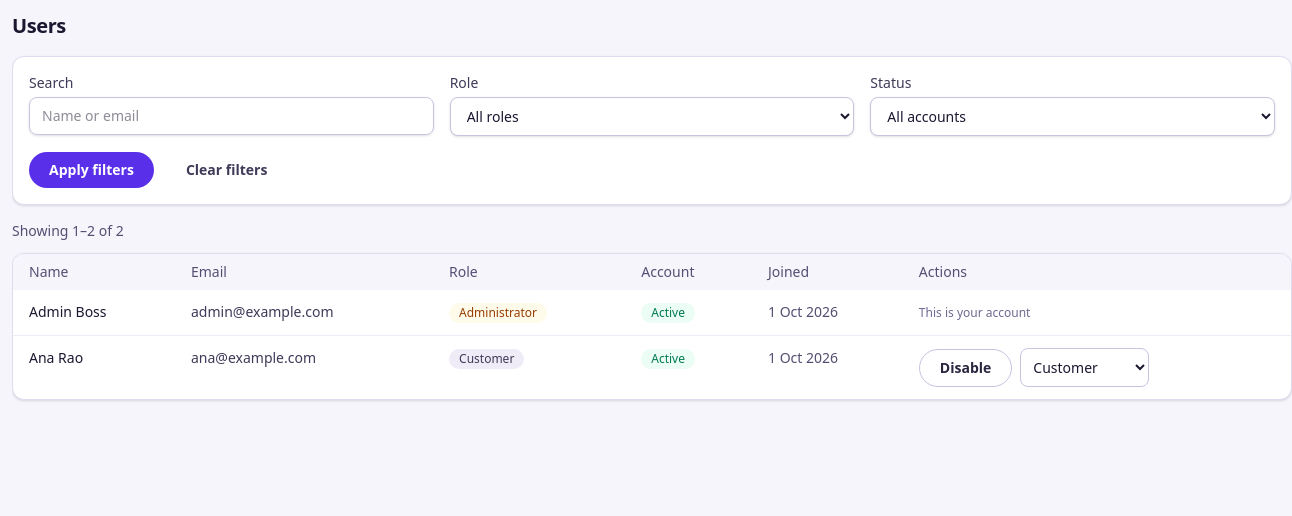
AdminUsersPage › disables an account only after a second, explicit confirmation, then reloads the list
The width and height of the screenshot is (1292, 516).
Click the button with aria-label "Disable Ana Rao". click: (966,368)
box: [919, 348, 1012, 386]
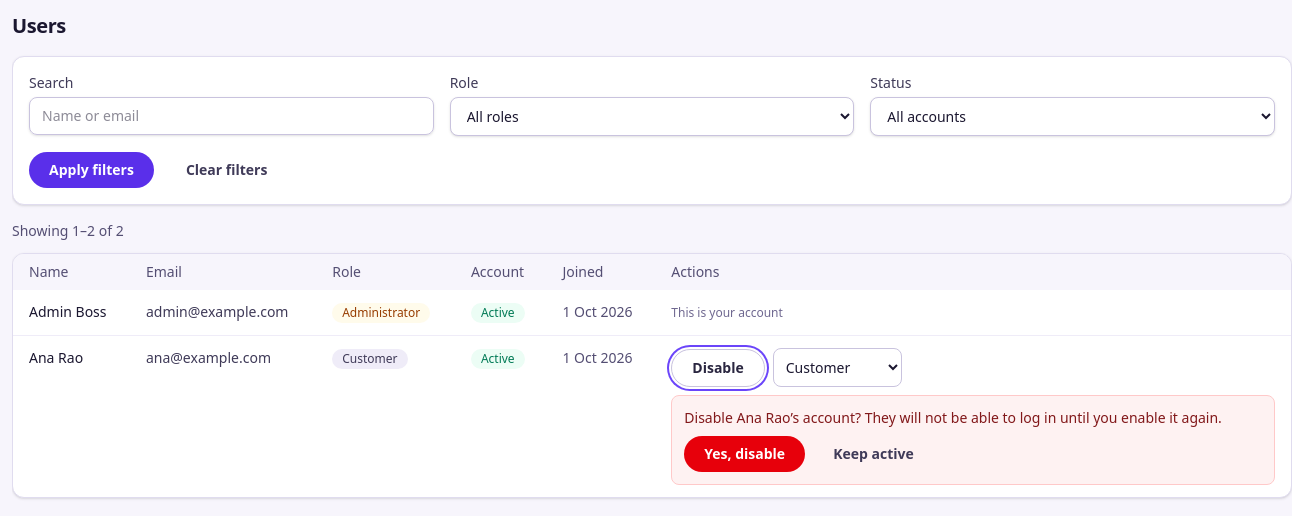
Expected: the text "will not be able to log in" is shown, [790, 408, 1222, 427]
Click the button "Yes, disable". click: (745,454)
box: [684, 436, 805, 472]
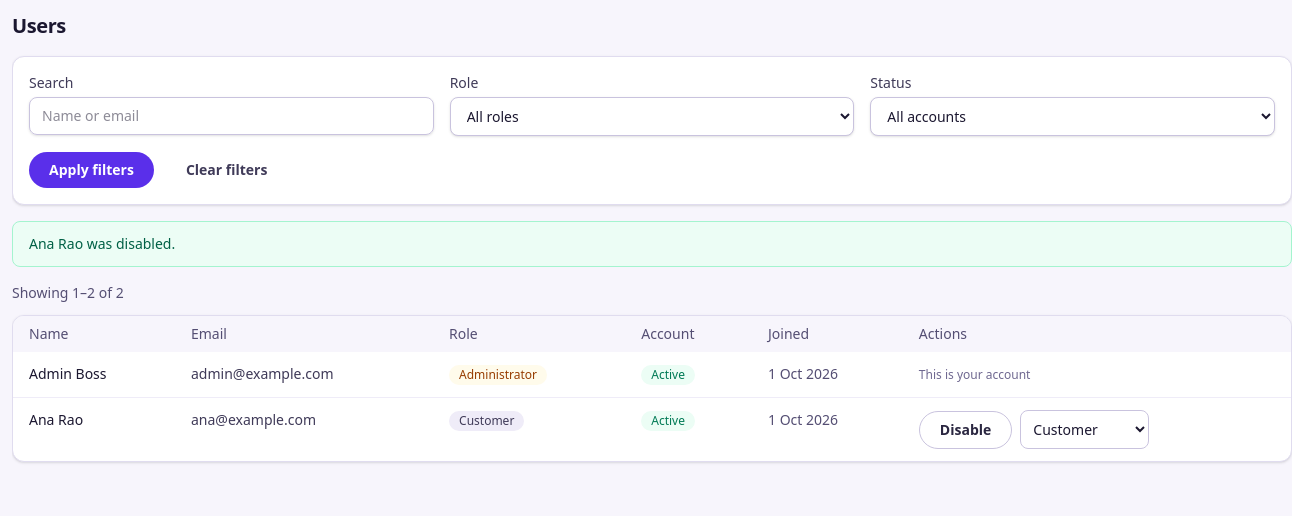
Expected: the text "Ana Rao was disabled." is shown, [12, 221, 1291, 267]
